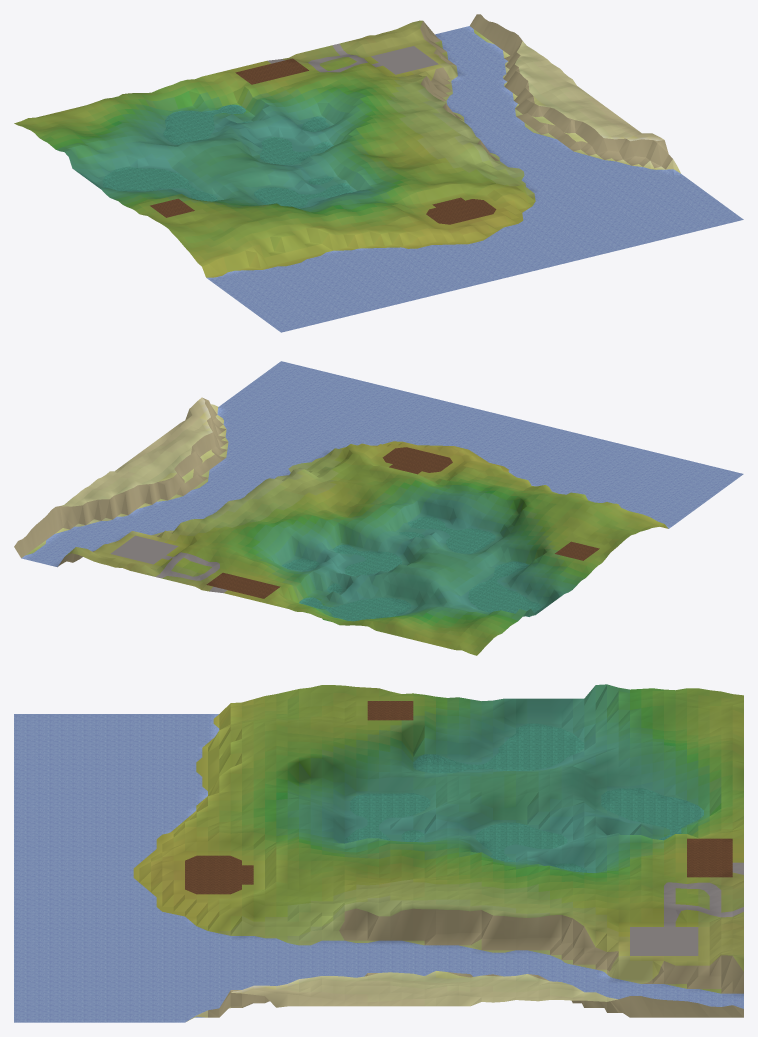
3 views of the same model, one above another, from view 1: azimuth 30°, elevation 25°; view 2: azimuth 150°, elevation 25°; view 3: azimuth 270°, elevation 25° (orthographic). The views are drawn at different scales.
Visible parts, largest first — view 1: model; view 2: model; view 3: model.
Part boxes in pixels (x1,y1,x2,y2): model: (14,14,743,332); model: (14,361,743,655); model: (14,684,743,1022).
Bounding box in the file's own units: 64 × 3.19 × 64.
4 materials, 3 textured.
